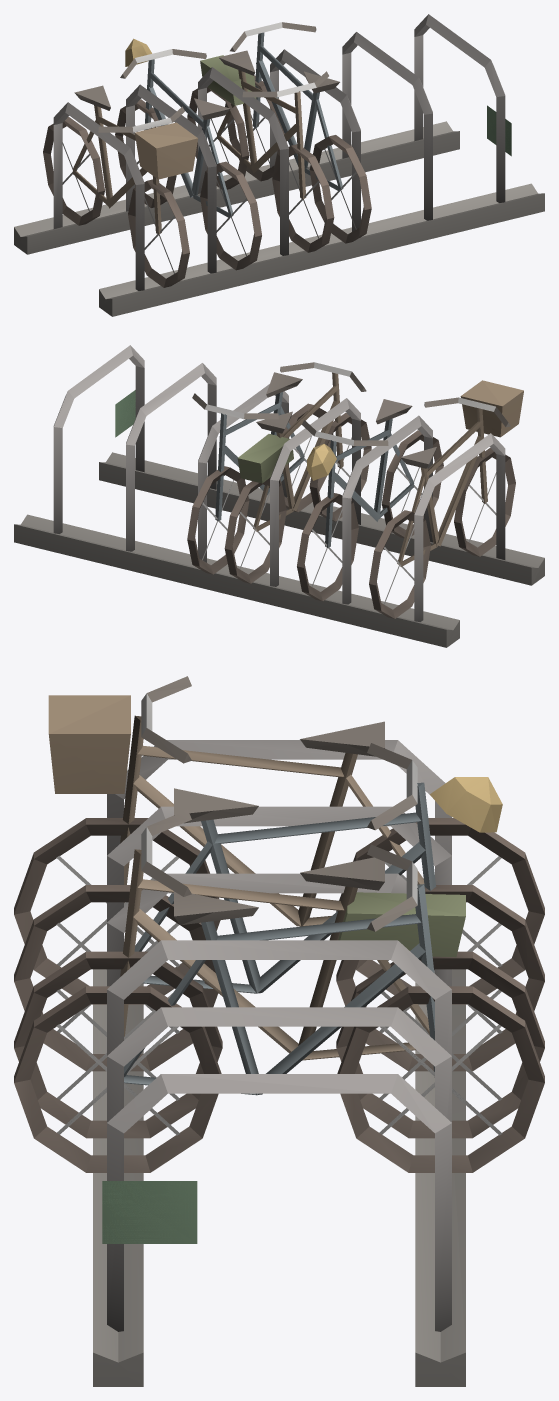
File: bikes.glb
3 renders of one model, top to bottom at view 1: azimuth 30°, elevation 25°; view 2: azimuth 150°, elevation 25°; view 3: azimuth 270°, elevation 25°, orthographic. The views are drawn at different scales.
Visible parts, largest first — view 1: bikes.001; view 2: bikes.001; view 3: bikes.001.
Part boxes in pixels (box(x1,y1,x2,y2)): bikes.001: box(14, 14, 544, 316); bikes.001: box(14, 345, 544, 647); bikes.001: box(14, 676, 544, 1386).
Bounding box in the file's own units: 3 × 1.14 × 1.68.
